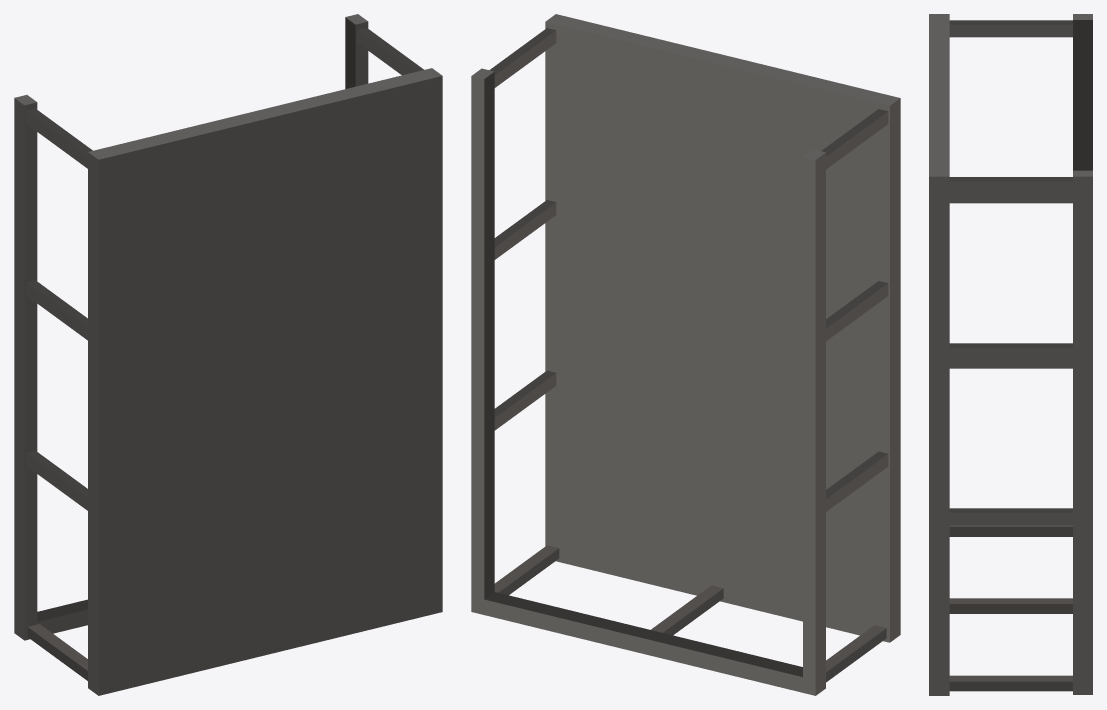
Rendered from PaperTray.glb.
The picture shows the model from 3 angles, left to right: view 1: azimuth 30°, elevation 25°; view 2: azimuth 150°, elevation 25°; view 3: azimuth 270°, elevation 25°; orthographic projection. The views are drawn at different scales.
Parts seen in each view (by area): view 1: SO_PaperTray_01; view 2: SO_PaperTray_01; view 3: SO_PaperTray_01.
Boxes of the visible parts, box(x1,y1,x2,y2) form: SO_PaperTray_01: box(14, 14, 442, 695); SO_PaperTray_01: box(471, 14, 900, 695); SO_PaperTray_01: box(929, 14, 1092, 695).
Size of the model in its own units: 0.5774 by 0.8596 by 0.2458.
Materials: 1 (1 with a texture image).
